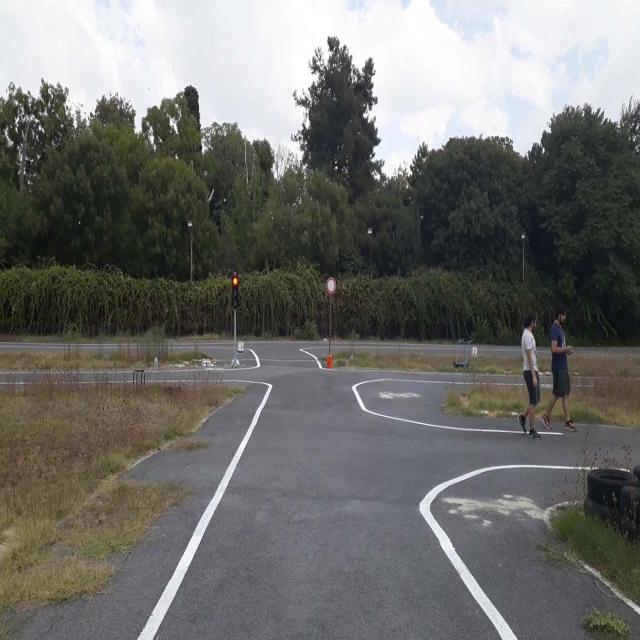kirmizi: (232, 276, 238, 308)
